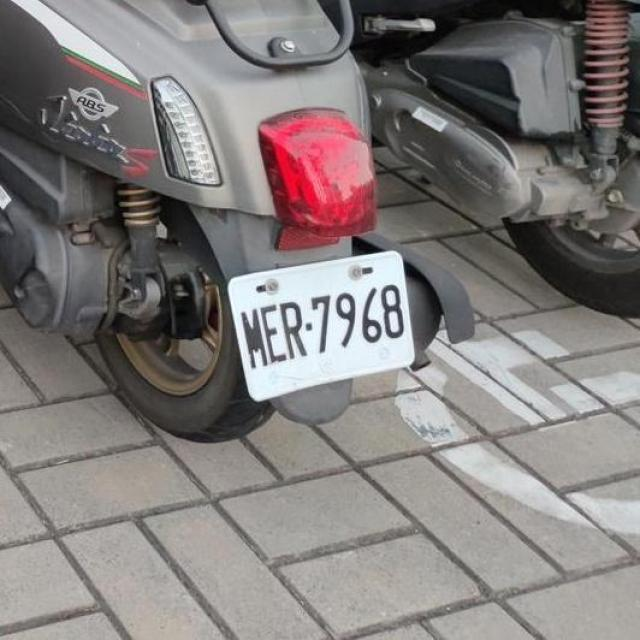W: (219, 240, 426, 410)
